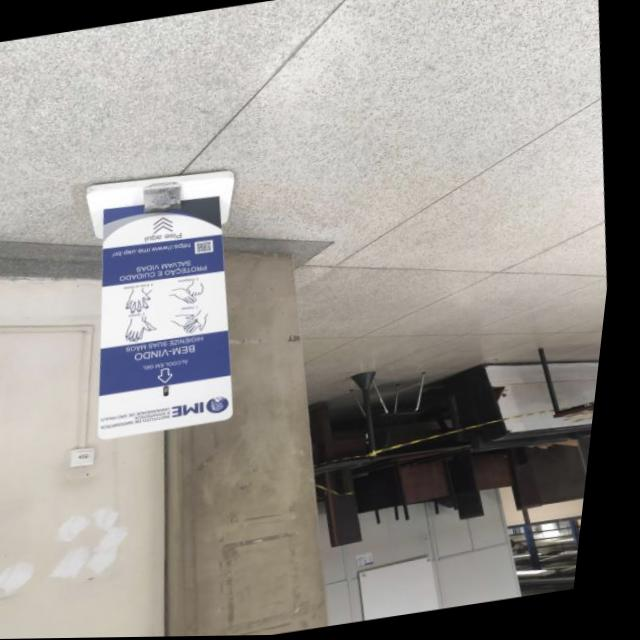qrcode: (203, 242, 218, 253)
